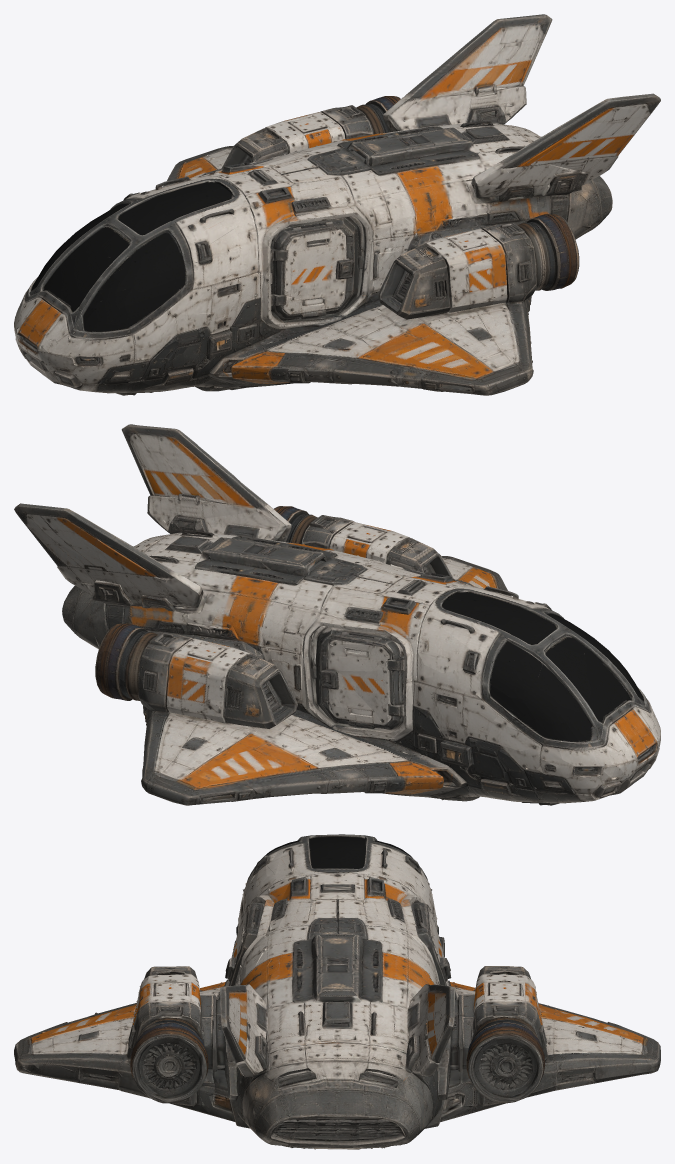
3 views of the same model, one above another, from view 1: azimuth 30°, elevation 25°; view 2: azimuth 150°, elevation 25°; view 3: azimuth 270°, elevation 25° (orthographic). The views are drawn at different scales.
Visible parts, largest first — view 1: Mesh_0; view 2: Mesh_0; view 3: Mesh_0.
Part boxes in pixels (bbox=[...]): Mesh_0: bbox=[14, 14, 660, 395]; Mesh_0: bbox=[14, 424, 660, 805]; Mesh_0: bbox=[14, 834, 660, 1149].
Bounding box in the file's own units: 1.9 × 0.7412 × 1.76.
1 material, 1 textured.
